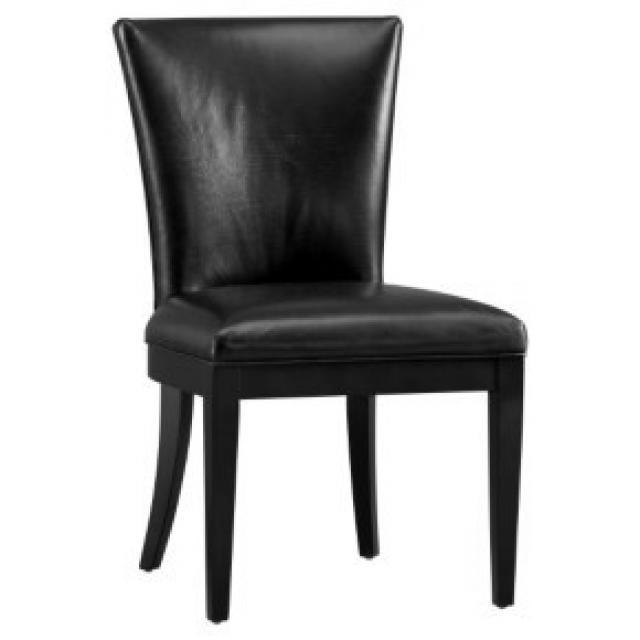chair: (111, 13, 531, 624)
